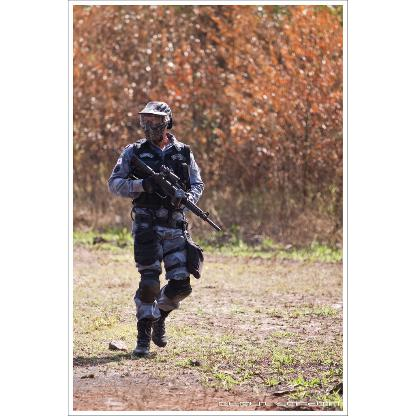gun: (128, 152, 220, 230)
